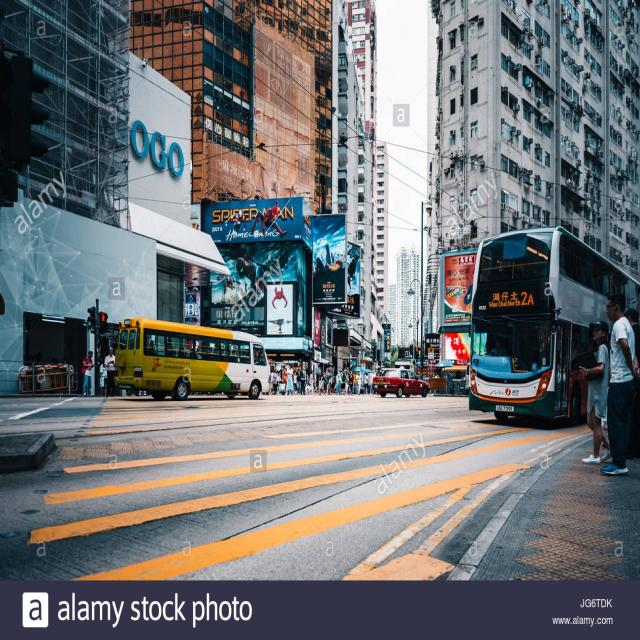body: (597, 289, 640, 479), (180, 248, 302, 313), (118, 329, 266, 365), (577, 318, 611, 464), (478, 230, 556, 283), (555, 320, 592, 420), (309, 246, 360, 301), (222, 202, 295, 238), (517, 319, 554, 375), (20, 345, 73, 373), (417, 372, 466, 395), (624, 306, 640, 369), (458, 264, 477, 310), (596, 384, 613, 431), (80, 349, 96, 397), (103, 346, 117, 398), (262, 368, 283, 397), (188, 388, 242, 398), (125, 386, 151, 400), (98, 363, 108, 398), (284, 363, 294, 397), (491, 337, 507, 356), (330, 367, 341, 394), (386, 369, 414, 379), (292, 366, 301, 396), (324, 368, 333, 397), (299, 364, 307, 396), (339, 367, 347, 397), (318, 368, 326, 396), (368, 368, 376, 396), (306, 369, 314, 395), (344, 369, 352, 394), (348, 369, 355, 396), (355, 370, 362, 396), (272, 369, 278, 396), (363, 372, 370, 395), (360, 369, 366, 394), (107, 386, 122, 396), (276, 364, 284, 382), (314, 371, 320, 394), (97, 351, 106, 366), (367, 372, 373, 394), (282, 364, 288, 384), (376, 367, 383, 376)
